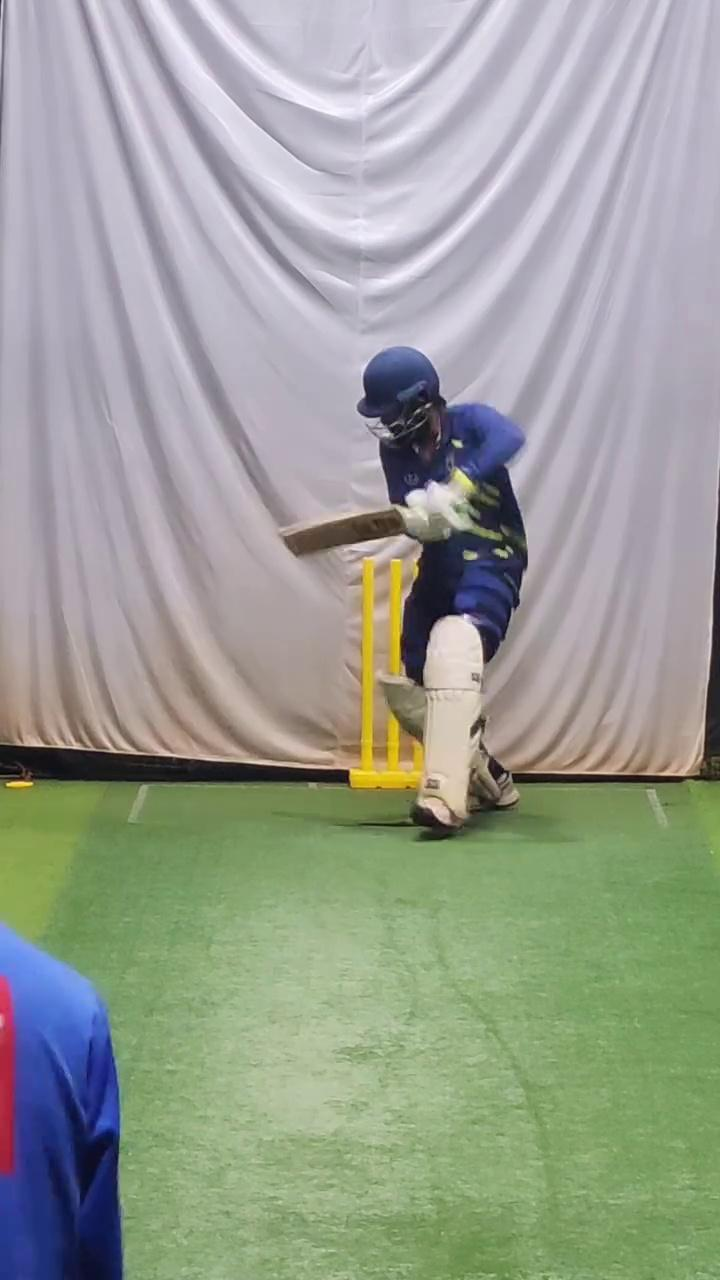bat: (276, 494, 414, 567)
